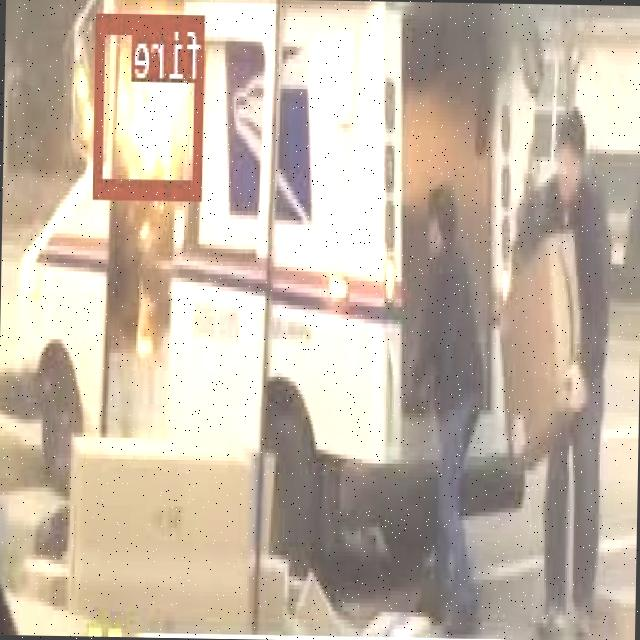fire: (96, 10, 206, 195)
